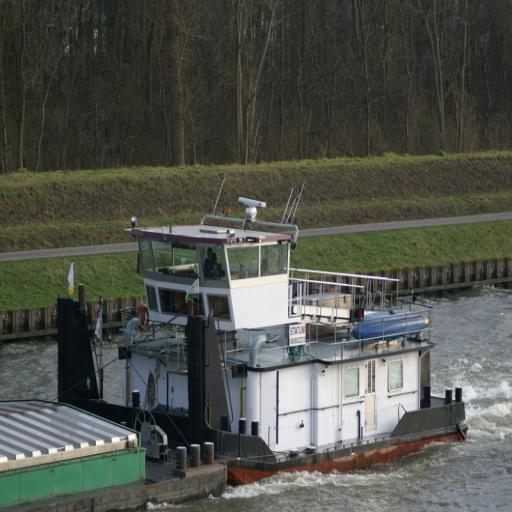tugboat: (53, 192, 472, 498)
